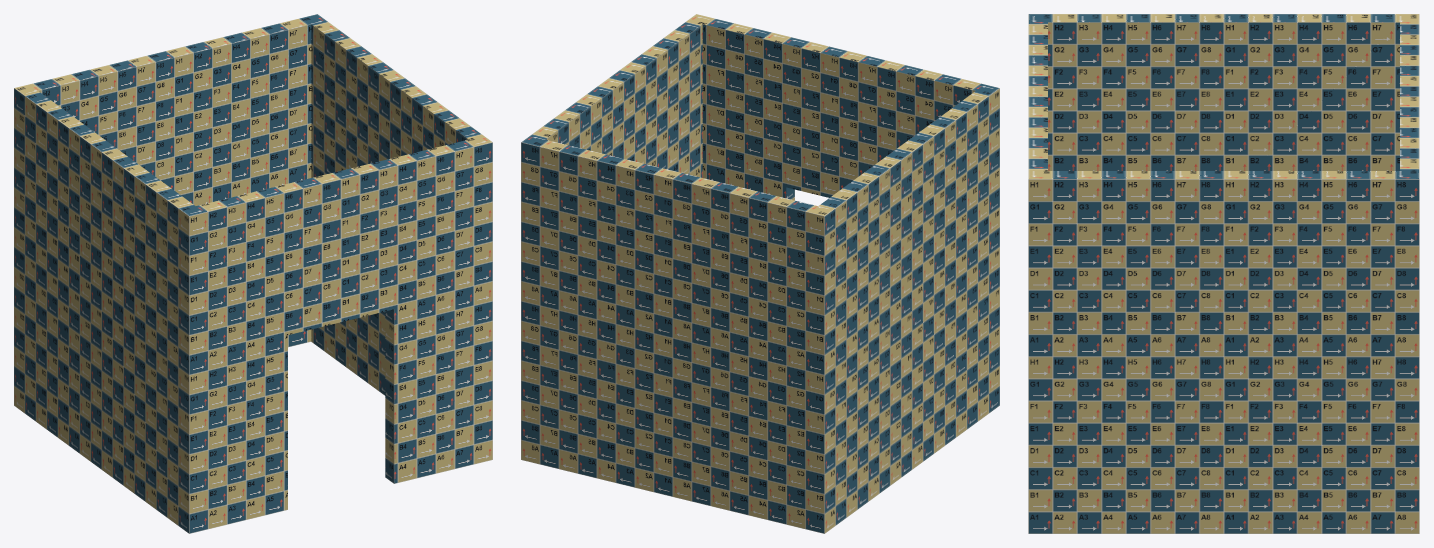
File: ELEVATOR_ShaftSegment.fbx
3 views of the same model, side by side, from view 1: azimuth 30°, elevation 25°; view 2: azimuth 150°, elevation 25°; view 3: azimuth 270°, elevation 25° (orthographic). The views are drawn at different scales.
Parts seen in each view (by area): view 1: ELEVATOR_ShaftSegment; view 2: ELEVATOR_ShaftSegment; view 3: ELEVATOR_ShaftSegment.
Boxes of the visible parts, x1,y1,x2,y2 form: ELEVATOR_ShaftSegment: [14, 14, 492, 533]; ELEVATOR_ShaftSegment: [521, 14, 999, 533]; ELEVATOR_ShaftSegment: [1028, 14, 1419, 533].
Bounding box in the file's own units: 400 × 400 × 400.
Materials: 1 (1 with a texture image).
